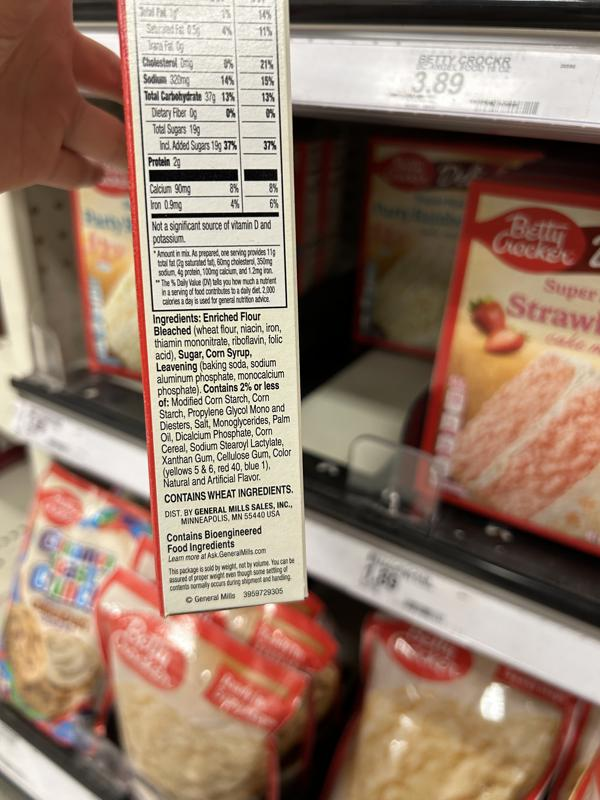ingredients: (151, 311, 294, 489)
